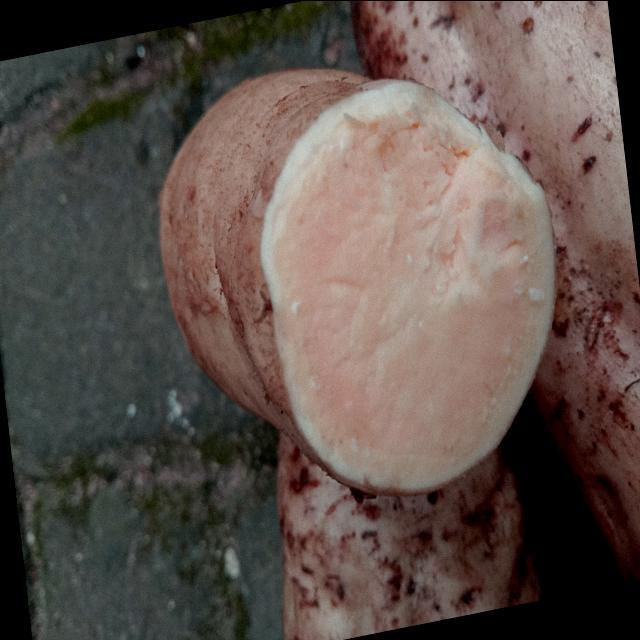Healthy Sweet Potato: (262, 80, 555, 492)
